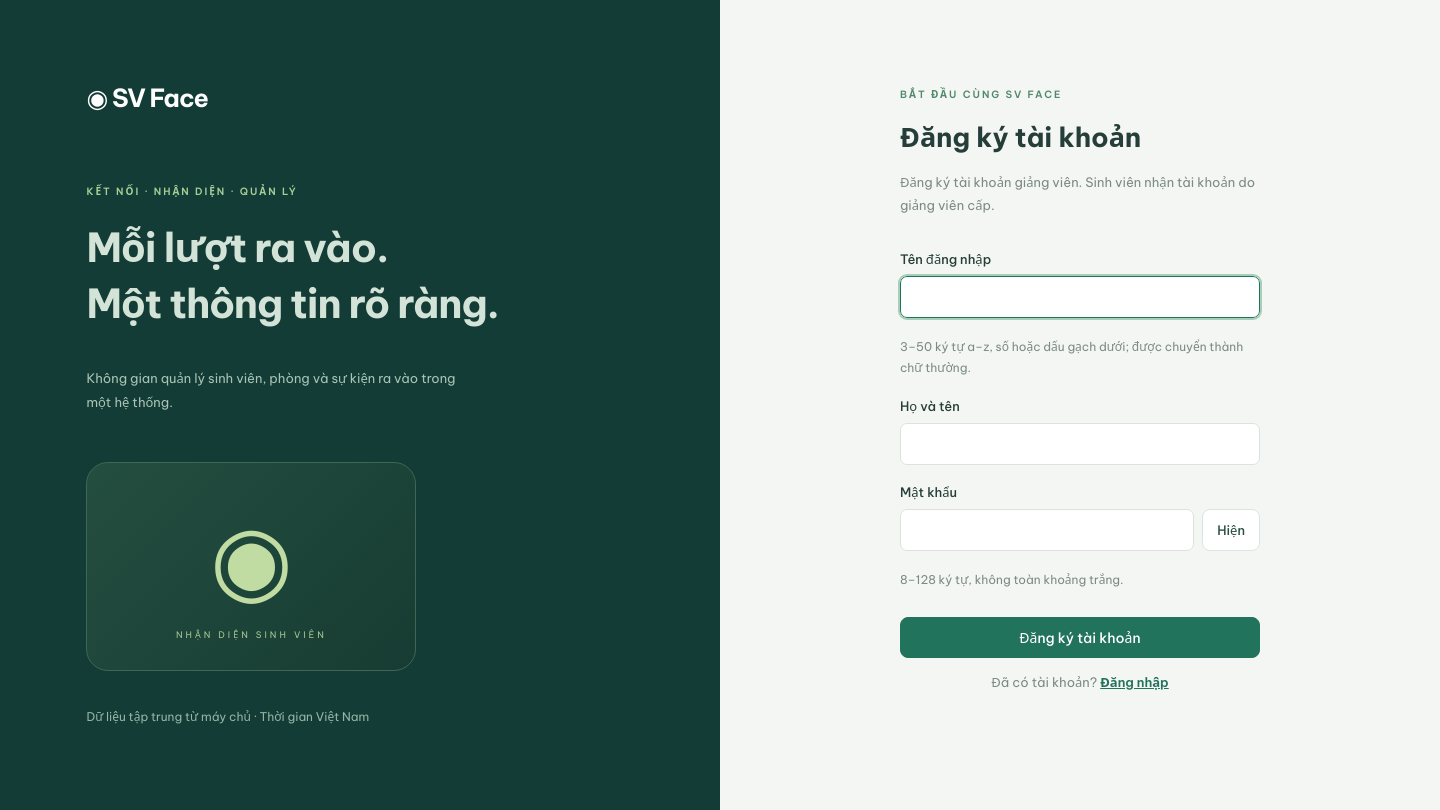
Test: Đăng ký và đăng nhập đơn giản › đăng ký gửi đúng ba trường, không Bearer; thành công chuyển sang login
Type "TEST_ONLY" into the field labelled "Tên đăng nhập".
click(1080, 297); type("TEST_ONLY")  # box x1=900 y1=276 x2=1260 y2=318
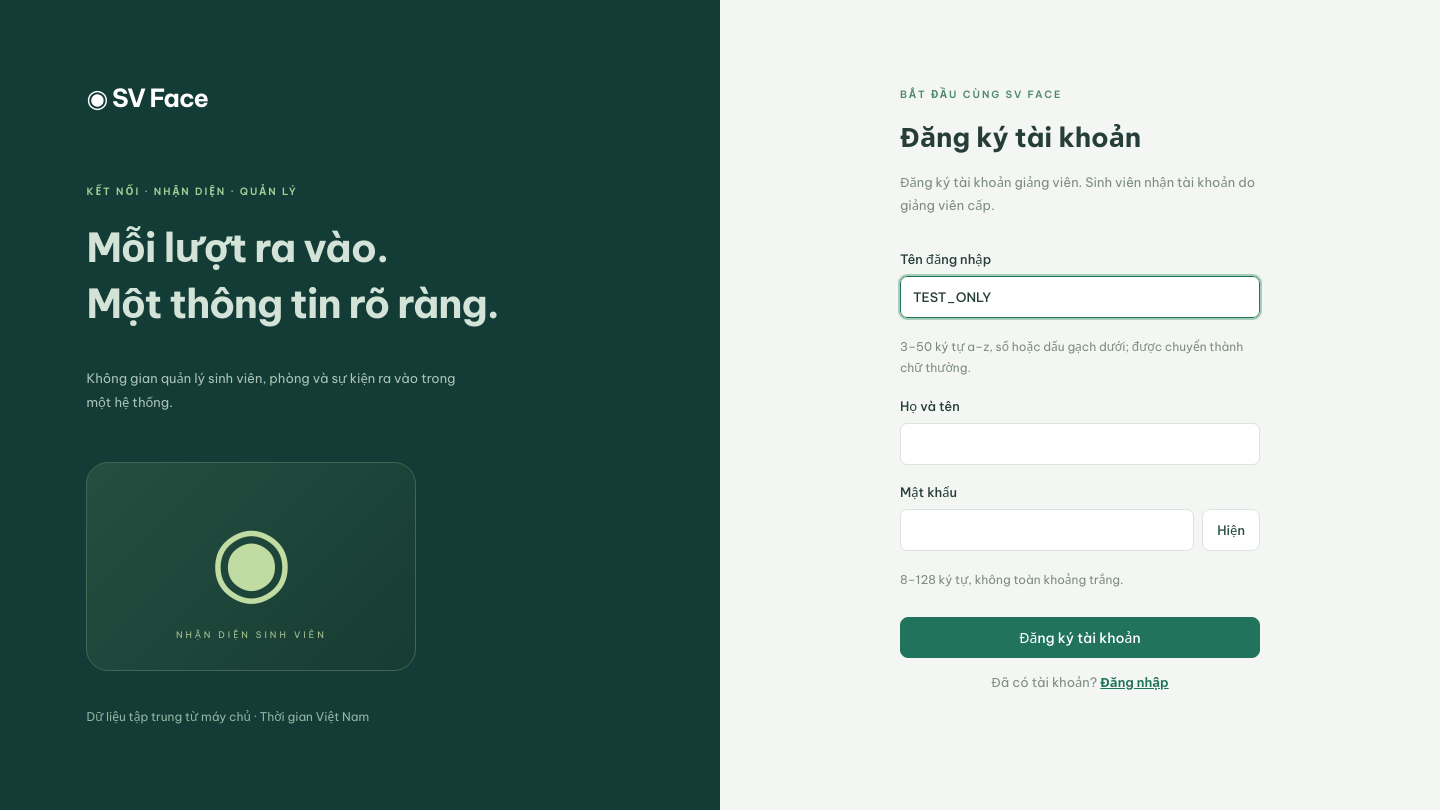
Type " Người kiểm thử " into the field labelled "Họ và tên".
click(1080, 444); type(" Người kiểm thử ")  # box x1=900 y1=423 x2=1260 y2=465
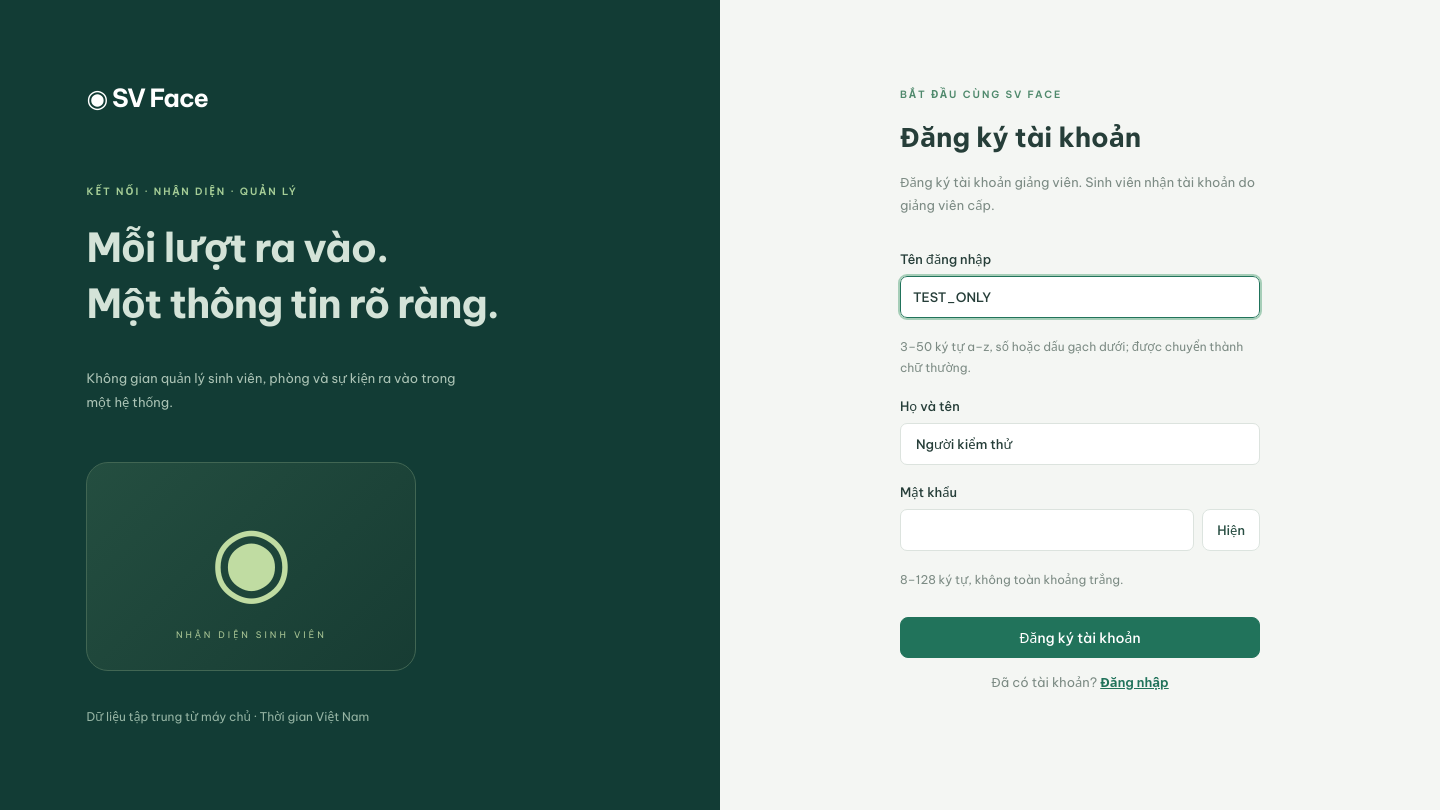
Type "test-only-password" into the password field labelled "Mật khẩu".
click(1047, 530); type("test-only-password")  # box x1=900 y1=509 x2=1194 y2=551
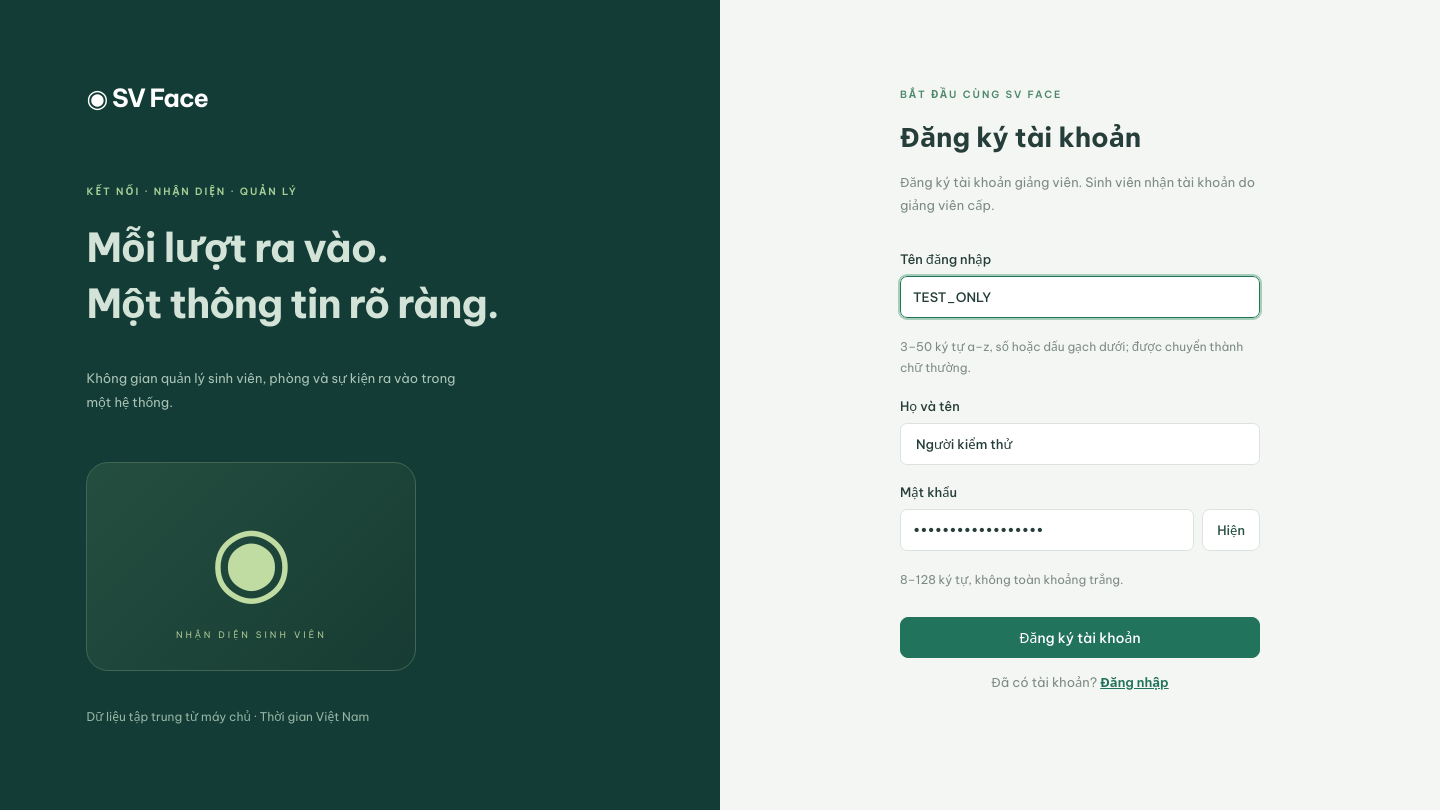
Click the button "Đăng ký tài khoản".
click(1080, 637)  # box x1=900 y1=617 x2=1260 y2=658
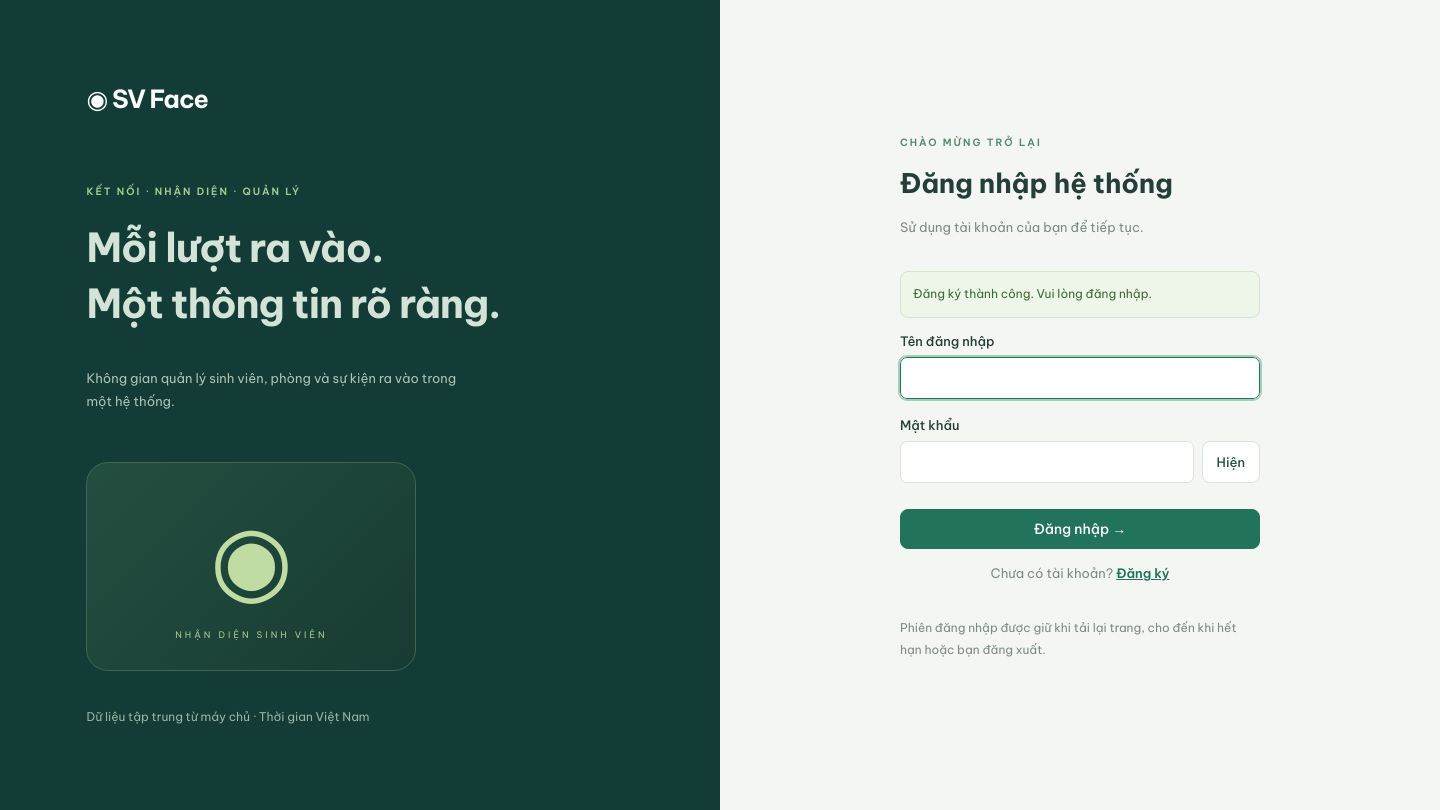
Expected: the text "Đăng ký thành công. Vui lòng đăng nhập." is shown, x1=900 y1=271 x2=1260 y2=318
Expected: the heading "Đăng nhập hệ thống" is shown, x1=900 y1=166 x2=1173 y2=200
